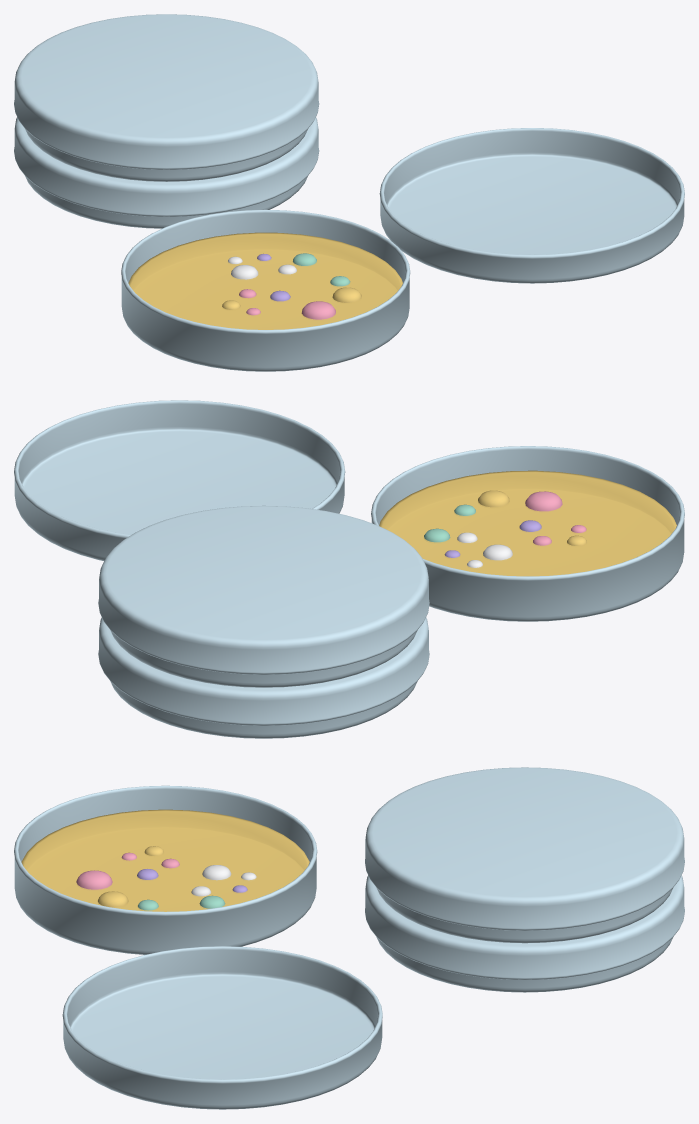
Rendered from petri-dish.glb.
3 renders of one model, top to bottom at view 1: azimuth 30°, elevation 25°; view 2: azimuth 150°, elevation 25°; view 3: azimuth 270°, elevation 25°, orthographic. The views are drawn at different scales.
Parts seen in each view (by area): view 1: petri-dish_dishes_glass, petri-dish_agar_fluid, petri-dish_body; view 2: petri-dish_dishes_glass, petri-dish_agar_fluid, petri-dish_body; view 3: petri-dish_dishes_glass, petri-dish_agar_fluid, petri-dish_body.
Boxes of the visible parts, x1=… form: petri-dish_dishes_glass: x1=14, y1=14, x2=684, y2=371; petri-dish_agar_fluid: x1=128, y1=232, x2=402, y2=329; petri-dish_body: x1=222, y1=253, x2=361, y2=319; petri-dish_dishes_glass: x1=14, y1=400, x2=684, y2=738; petri-dish_agar_fluid: x1=379, y1=470, x2=676, y2=576; petri-dish_body: x1=424, y1=490, x2=586, y2=567; petri-dish_dishes_glass: x1=14, y1=767, x2=684, y2=1109; petri-dish_agar_fluid: x1=21, y1=809, x2=309, y2=911; petri-dish_body: x1=76, y1=846, x2=256, y2=910.
Bounding box in the file's own units: 0.1989 × 0.0323 × 0.1999.
Materials: 4 (1 with a texture image).
